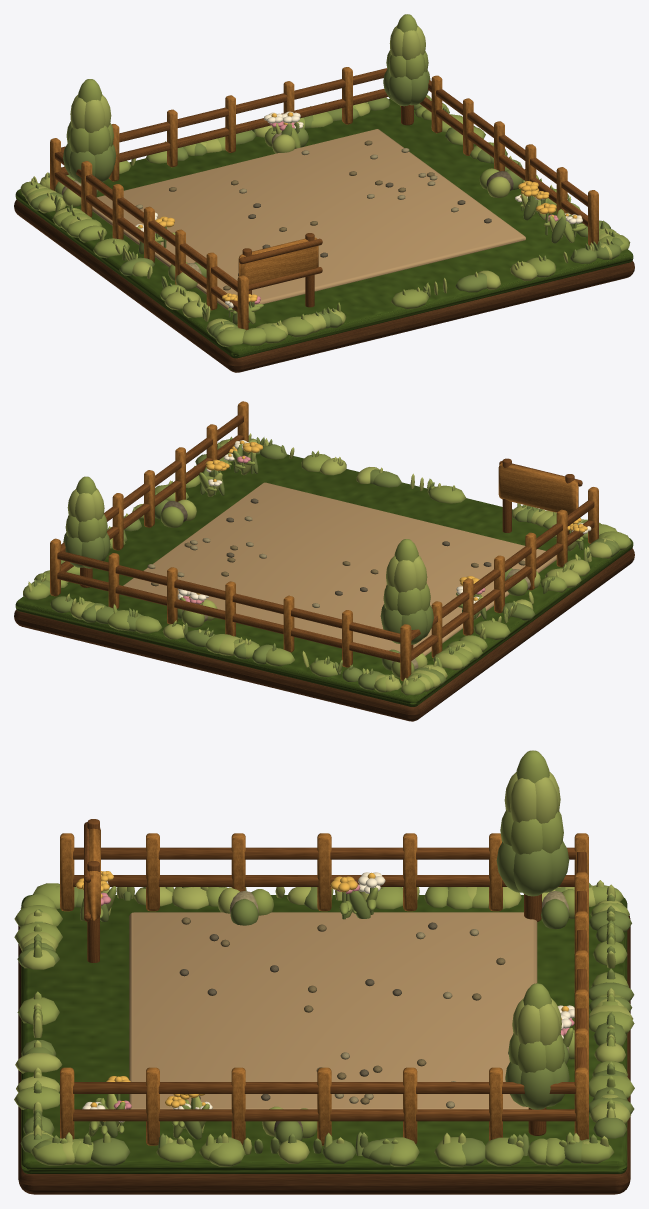
File: stage-1.glb
The picture shows the model from 3 angles, top to bottom: view 1: azimuth 30°, elevation 25°; view 2: azimuth 150°, elevation 25°; view 3: azimuth 270°, elevation 25°; orthographic projection. The views are drawn at different scales.
Visible parts, largest first — view 1: Surface_Garden soil, Surface_Moss lawn, Surface_Honey wood, Surface_Foliage 1, Surface_Golden end grain, Surface_Ochre earth, Surface_Foliage 0, Surface_Foliage 2, Surface_Petal marigold, Surface_Petal ivory, Surface_Stone 1; view 2: Surface_Garden soil, Surface_Moss lawn, Surface_Honey wood, Surface_Golden end grain, Surface_Foliage 1, Surface_Ochre earth, Surface_Foliage 0, Surface_Foliage 2, Surface_Petal marigold, Surface_Petal ivory, Surface_Stone 1; view 3: Surface_Garden soil, Surface_Moss lawn, Surface_Foliage 1, Surface_Honey wood, Surface_Foliage 0, Surface_Golden end grain, Surface_Ochre earth, Surface_Foliage 2, Surface_Petal marigold, Surface_Stone 1, Surface_Petal ivory, Surface_Stone 0 (+1 smaller).
Boxes of the visible parts, box(x1,y1,x2,y2) form: Surface_Garden soil: box(92, 129, 525, 311); Surface_Moss lawn: box(15, 99, 633, 358); Surface_Honey wood: box(54, 68, 587, 322); Surface_Foliage 1: box(20, 14, 630, 347); Surface_Golden end grain: box(50, 67, 598, 330); Surface_Ochre earth: box(14, 199, 634, 372); Surface_Foliage 0: box(29, 69, 623, 338); Surface_Foliage 2: box(24, 25, 619, 336); Surface_Petal marigold: box(138, 112, 577, 302); Surface_Petal ivory: box(135, 111, 582, 307); Surface_Stone 1: box(61, 131, 458, 276); Surface_Garden soil: box(120, 482, 556, 655); Surface_Moss lawn: box(15, 454, 633, 706); Surface_Honey wood: box(57, 415, 594, 662); Surface_Golden end grain: box(50, 401, 598, 681); Surface_Foliage 1: box(23, 439, 631, 695); Surface_Ochre earth: box(14, 548, 634, 721); Surface_Foliage 0: box(32, 436, 619, 690); Surface_Foliage 2: box(28, 433, 614, 691); Surface_Petal marigold: box(189, 440, 587, 600); Surface_Petal ivory: box(177, 440, 591, 603); Surface_Stone 1: box(147, 516, 530, 669); Surface_Garden soil: box(129, 912, 537, 1109); Surface_Moss lawn: box(21, 895, 627, 1173); Surface_Foliage 1: box(14, 750, 634, 1167); Surface_Honey wood: box(73, 819, 586, 1135); Surface_Foliage 0: box(17, 841, 634, 1166); Surface_Golden end grain: box(60, 828, 588, 1145); Surface_Ochre earth: box(18, 915, 630, 1194); Surface_Foliage 2: box(15, 771, 633, 1164); Surface_Petal marigold: box(75, 871, 568, 1121); Surface_Stone 1: box(229, 891, 569, 1108); Surface_Petal ivory: box(82, 872, 574, 1122); Surface_Stone 0: box(181, 917, 505, 1104).
Bounding box in the file's own units: 7.38 × 2.57 × 7.
Materials: 14 (7 with a texture image).
